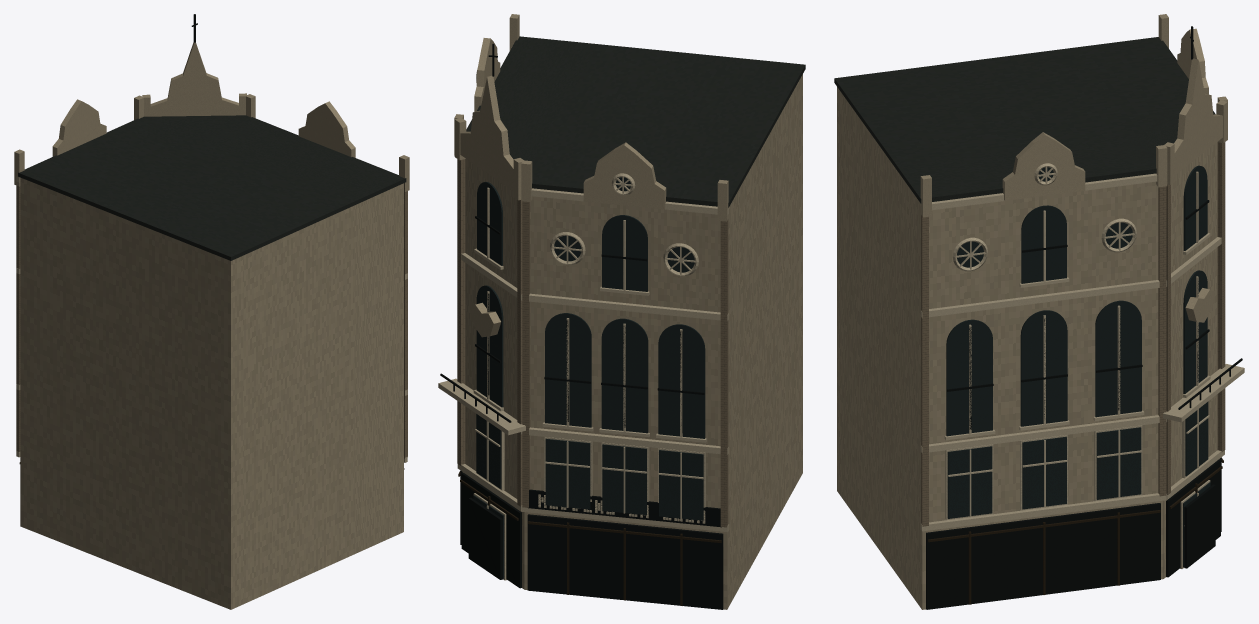
3 renders of one model, left to right at view 1: azimuth 30°, elevation 25°; view 2: azimuth 150°, elevation 25°; view 3: azimuth 270°, elevation 25°, orthographic. The views are drawn at different scales.
Visible parts, largest first — view 1: meddens-hoogstraat-0, meddens-hoogstraat-1, meddens-hoogstraat-4; view 2: meddens-hoogstraat-0, meddens-hoogstraat-1, meddens-hoogstraat-6, meddens-hoogstraat-3, meddens-hoogstraat-2, meddens-hoogstraat-4, meddens-hoogstraat-5; view 3: meddens-hoogstraat-0, meddens-hoogstraat-1, meddens-hoogstraat-6, meddens-hoogstraat-3, meddens-hoogstraat-2, meddens-hoogstraat-4, meddens-hoogstraat-5.
Boxes of the visible parts, x1=… form: meddens-hoogstraat-0: x1=14, y1=42, x2=409, y2=609; meddens-hoogstraat-1: x1=18, y1=115, x2=406, y2=260; meddens-hoogstraat-4: x1=16, y1=183, x2=407, y2=458; meddens-hoogstraat-0: x1=454, y1=14, x2=802, y2=609; meddens-hoogstraat-1: x1=466, y1=36, x2=805, y2=207; meddens-hoogstraat-6: x1=473, y1=177, x2=705, y2=578; meddens-hoogstraat-3: x1=440, y1=43, x2=723, y2=609; meddens-hoogstraat-2: x1=438, y1=70, x2=728, y2=580; meddens-hoogstraat-4: x1=457, y1=159, x2=728, y2=527; meddens-hoogstraat-5: x1=458, y1=471, x2=721, y2=605; meddens-hoogstraat-0: x1=837, y1=14, x2=1227, y2=609; meddens-hoogstraat-1: x1=834, y1=37, x2=1215, y2=203; meddens-hoogstraat-6: x1=946, y1=165, x2=1210, y2=567; meddens-hoogstraat-3: x1=926, y1=26, x2=1242, y2=609; meddens-hoogstraat-2: x1=920, y1=163, x2=1244, y2=568; meddens-hoogstraat-4: x1=921, y1=142, x2=1225, y2=526; meddens-hoogstraat-5: x1=928, y1=458, x2=1223, y2=604.
Bounding box in the file's own units: 18.62 × 27.86 × 19.52.
Materials: 7 (7 with a texture image).
